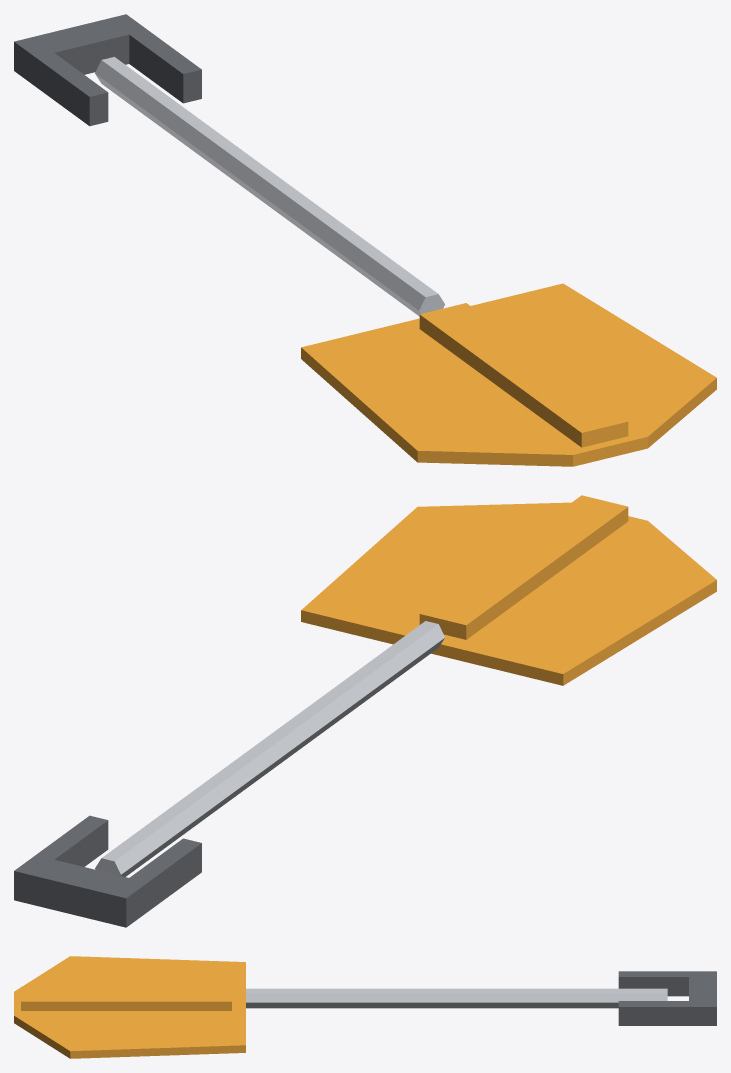
Rendered from shovel.glb.
3 renders of one model, top to bottom at view 1: azimuth 30°, elevation 25°; view 2: azimuth 150°, elevation 25°; view 3: azimuth 270°, elevation 25°, orthographic. The views are drawn at different scales.
Visible parts, largest first — view 1: snow-shovel; view 2: snow-shovel; view 3: snow-shovel.
Part boxes in pixels (<box>): snow-shovel: <box>14,14,716,466</box>; snow-shovel: <box>14,495,716,927</box>; snow-shovel: <box>14,956,716,1058</box>.
Bounding box in the file's own units: 0.32 × 0.035 × 1.
